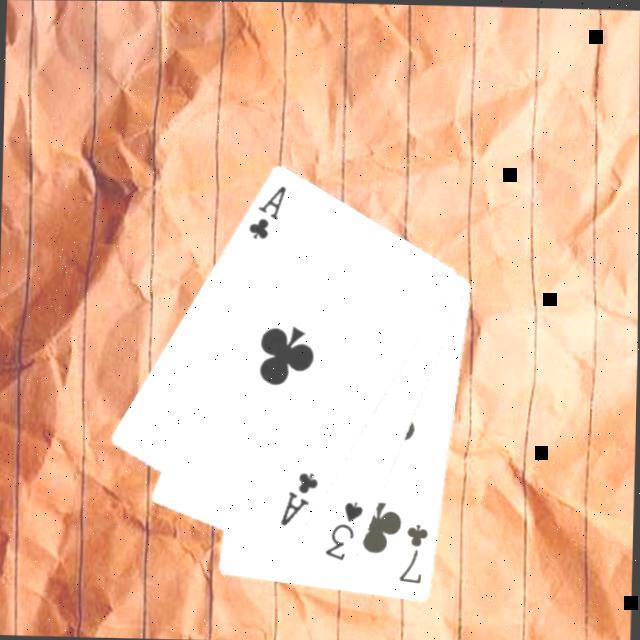3S: (323, 496, 368, 563)
7C: (397, 519, 432, 586)
AC: (278, 466, 323, 528), (245, 180, 290, 242)
